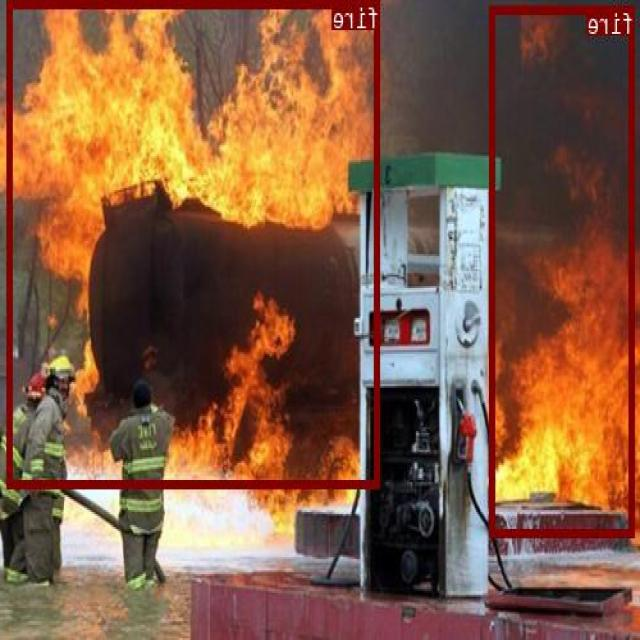fire: (8, 0, 381, 488), (491, 5, 636, 536)
